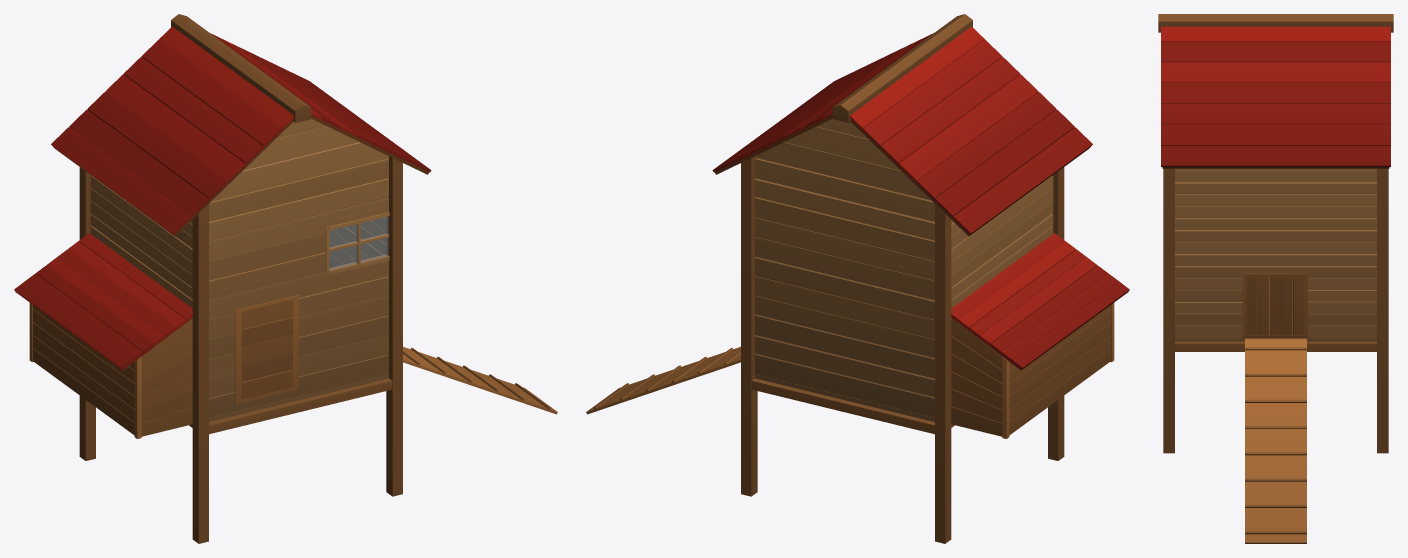
File: Bld_Chicken_Coop_01.obj
The picture shows the model from 3 angles, left to right: view 1: azimuth 30°, elevation 25°; view 2: azimuth 150°, elevation 25°; view 3: azimuth 270°, elevation 25°; orthographic projection. The views are drawn at different scales.
Visible parts, largest first — view 1: Bld_Chicken_Coop_01, Bld_Chicken_Coop_Door_Left_01, Bld_Chicken_Coop_Door_Middle_01, Bld_Chicken_Coop_Window_01; view 2: Bld_Chicken_Coop_01, Bld_Chicken_Coop_Door_Left_01; view 3: Bld_Chicken_Coop_01, Bld_Chicken_Coop_Door_Right_01.
Part boxes in pixels (<box>): Bld_Chicken_Coop_01: <box>29,14,557,543</box>; Bld_Chicken_Coop_Door_Left_01: <box>14,233,192,370</box>; Bld_Chicken_Coop_Door_Middle_01: <box>235,295,298,404</box>; Bld_Chicken_Coop_Window_01: <box>329,216,388,270</box>; Bld_Chicken_Coop_01: <box>586,14,1114,543</box>; Bld_Chicken_Coop_Door_Left_01: <box>951,233,1129,370</box>; Bld_Chicken_Coop_01: <box>1158,14,1393,543</box>; Bld_Chicken_Coop_Door_Right_01: <box>1242,273,1307,338</box>.
Size of the model in its own units: 2.32 by 1.95 by 1.06.
2 materials, 1 textured.
